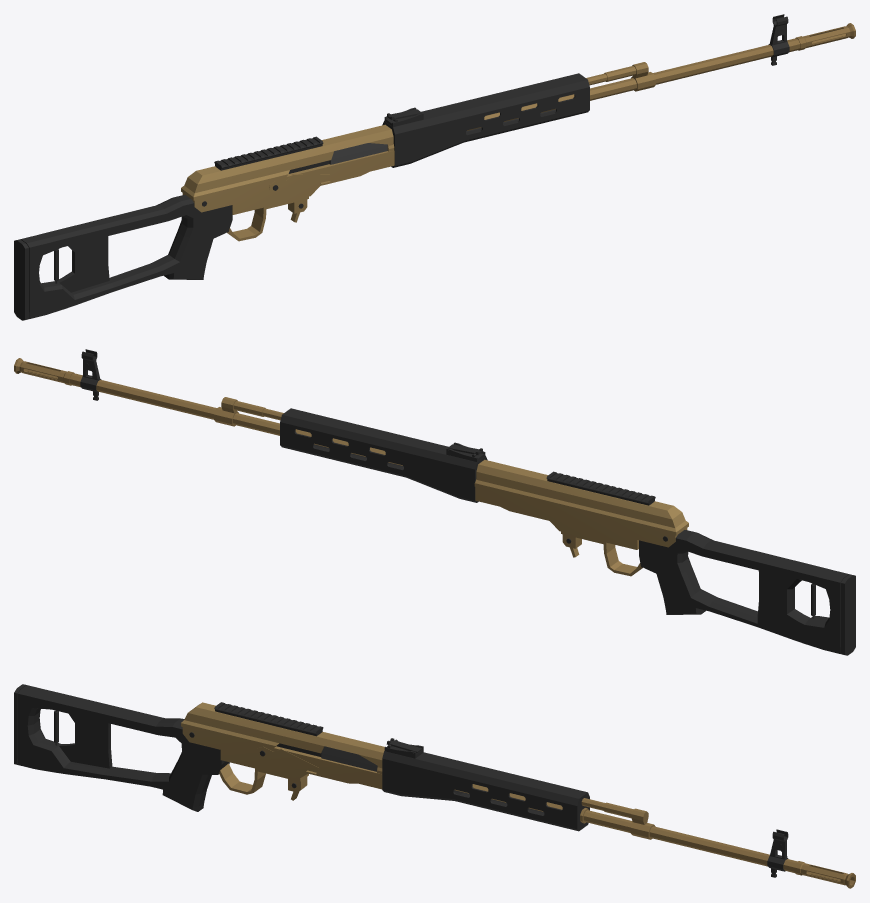
The model's file is SniperRifle2_05.fbx.
The picture shows the model from 3 angles, top to bottom: view 1: azimuth 30°, elevation 25°; view 2: azimuth 150°, elevation 25°; view 3: azimuth 330°, elevation 25°; orthographic projection.
Visible parts, largest first — view 1: SniperRifle2_05; view 2: SniperRifle2_05; view 3: SniperRifle2_05.
Boxes of the visible parts, <box> form: SniperRifle2_05: <box>14,14,855,320</box>; SniperRifle2_05: <box>14,349,855,655</box>; SniperRifle2_05: <box>14,684,855,888</box>.
Size of the model in its own units: 1.51 by 0.2075 by 0.0444.
